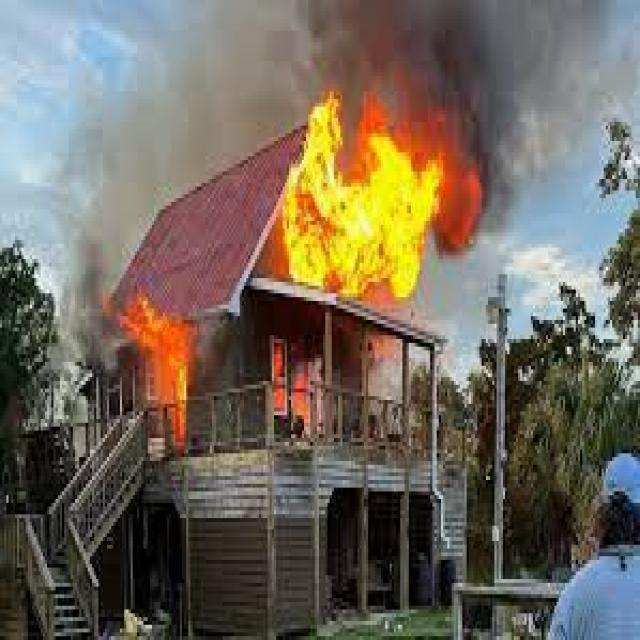Fire: (289, 102, 442, 304), (120, 288, 217, 418)
Smoke: (266, 0, 588, 211), (69, 262, 117, 374)
